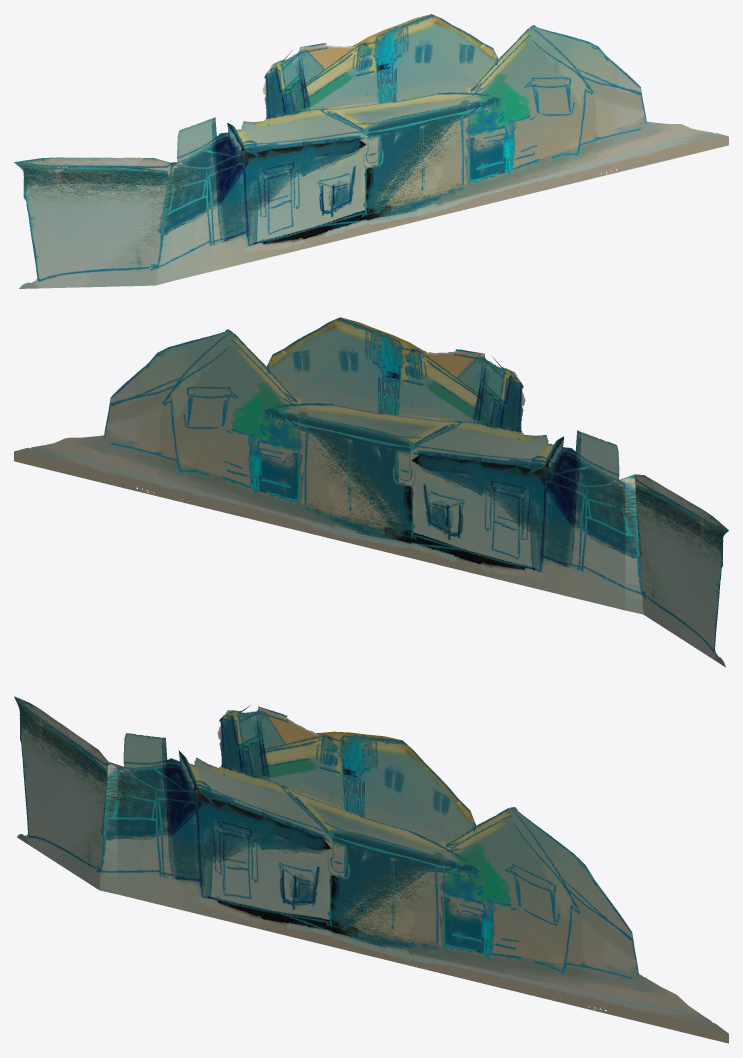
The model's file is house_6.fbx.
3 views of the same model, one above another, from view 1: azimuth 30°, elevation 25°; view 2: azimuth 150°, elevation 25°; view 3: azimuth 330°, elevation 25° (orthographic). The views are drawn at different scales.
Visible parts, largest first — view 1: mask16; view 2: mask16; view 3: mask16.
Part boxes in pixels (x1,y1,x2,y2): mask16: (14, 14, 728, 288); mask16: (14, 317, 728, 667); mask16: (14, 696, 728, 1043).
Size of the model in its own units: 13.63 by 3.89 by 1.21.
1 material, 1 textured.
